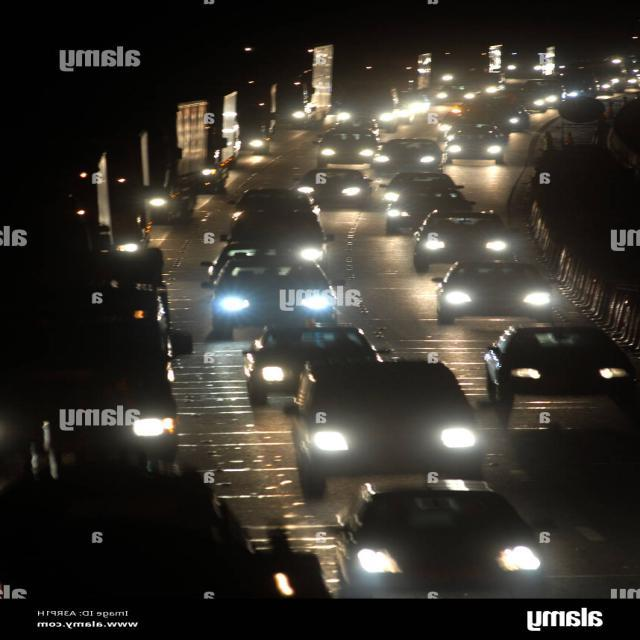headlights: (347, 521, 555, 590), (296, 412, 483, 473), (505, 353, 631, 398), (215, 286, 336, 326), (439, 279, 552, 317), (417, 228, 518, 262), (317, 141, 375, 163), (444, 138, 504, 159), (374, 153, 434, 169)
